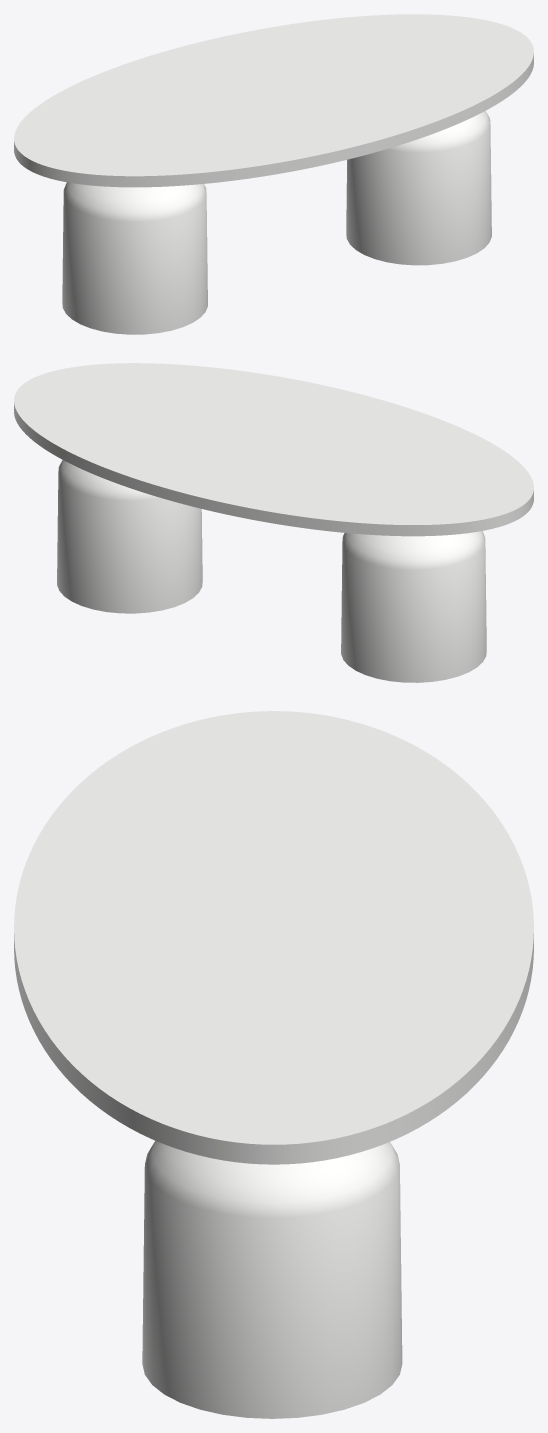
The model's file is purewhite_ellips_standard_tornado.glb.
3 views of the same model, one above another, from view 1: azimuth 30°, elevation 25°; view 2: azimuth 150°, elevation 25°; view 3: azimuth 270°, elevation 25° (orthographic). The views are drawn at different scales.
Parts seen in each view (by area): view 1: standard_ellips, tornado; view 2: standard_ellips, tornado; view 3: standard_ellips, tornado.
Boxes of the visible parts, x1,y1,x2,y2 form: standard_ellips: (14,14,533,187); tornado: (62,111,491,334); standard_ellips: (14,363,533,536); tornado: (57,460,486,682); standard_ellips: (14,711,533,1164); tornado: (142,1141,402,1418).
Size of the model in its own units: 7.5 by 2.5 by 3.8.
1 material, 1 textured.
